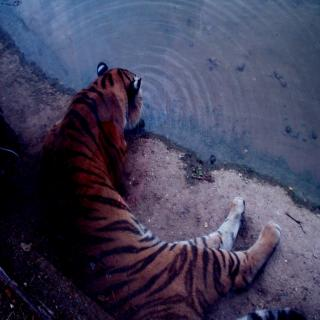Tiger: (42, 61, 292, 320)
